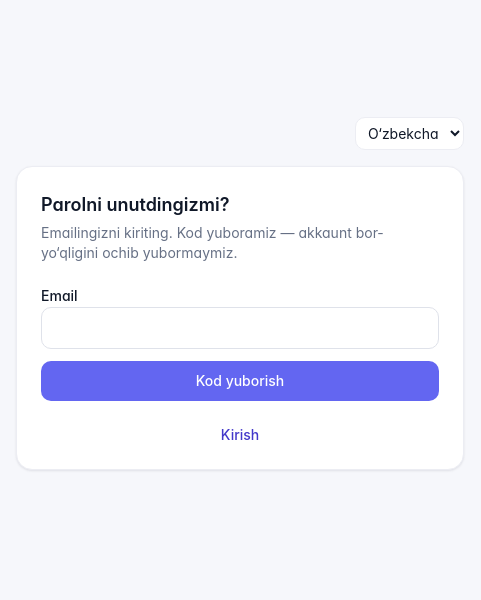
ForgotPasswordPage › asks for email then a one-time code without revealing whether the inbox exists
This screenshot has width=481, height=600.
Expected: the heading "Parolni unutdingizmi?" is shown, [41,194,229,214]
Type "aziz@example.com" into the field labelled "Email". click: x=240, y=328
box: [41,306,439,348]
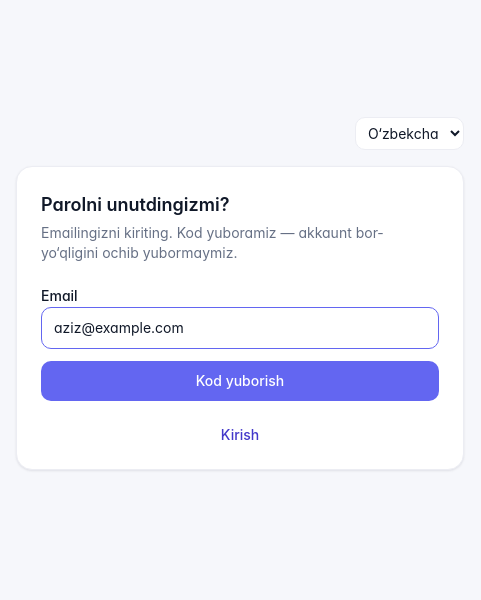
Click the button "Kod yuborish". click: x=240, y=380
box: [41,360,439,400]
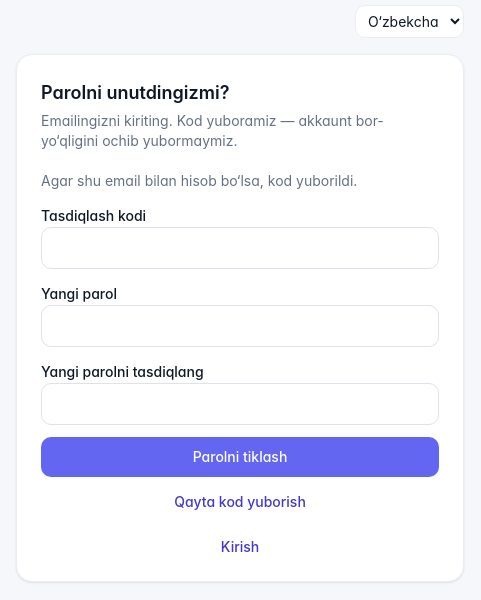
Expected: the field labelled "Tasdiqlash kodi" is shown, [41,226,439,268]
Expected: the text "Agar shu email bilan hisob bo‘lsa, kod yuborildi." is shown, [41,172,357,188]
Expected: the button "Qayta kod yuborish" is shown, [41,492,439,512]
